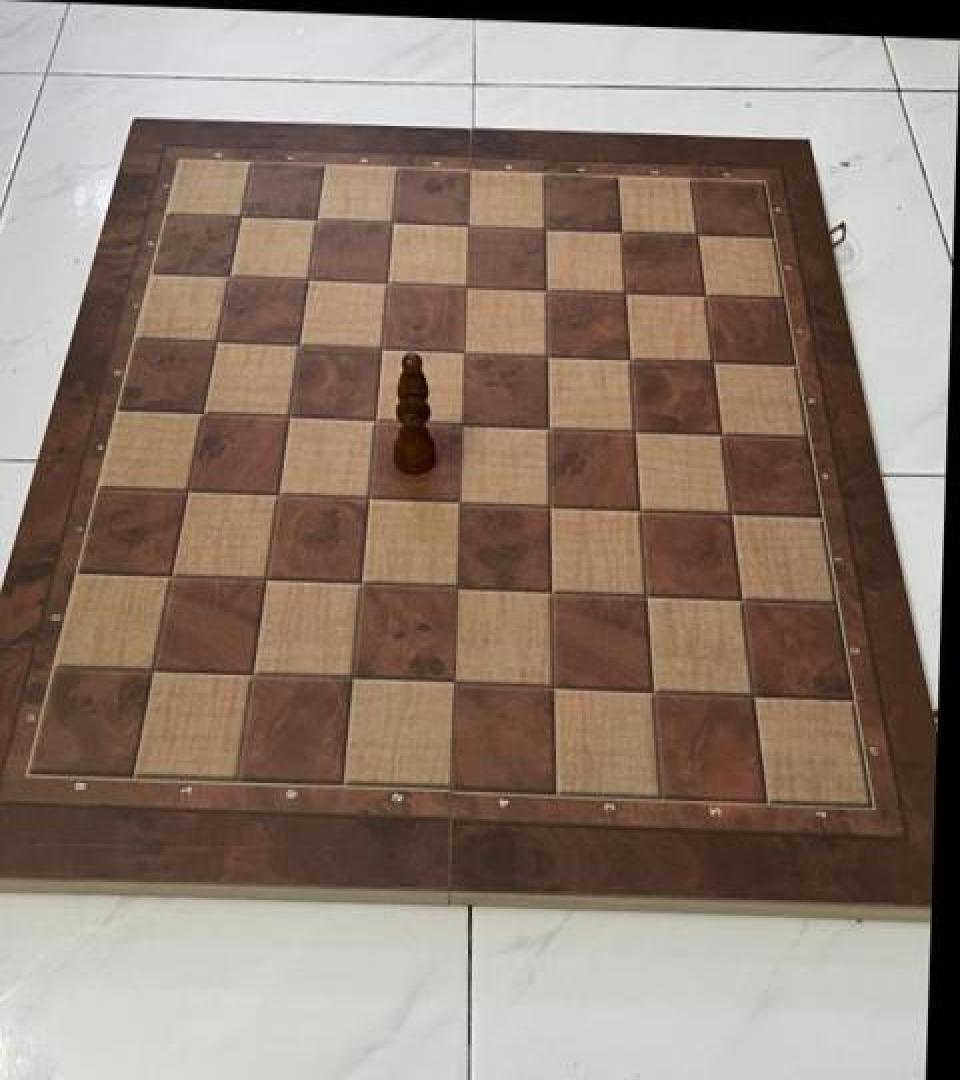xcorner: (222, 199, 258, 240), (297, 201, 333, 242), (523, 209, 559, 250), (367, 263, 403, 304), (603, 271, 639, 312), (279, 325, 315, 366), (525, 334, 561, 375), (355, 399, 391, 440), (527, 406, 563, 447), (169, 471, 205, 512), (348, 478, 384, 519), (619, 488, 655, 529), (246, 560, 282, 601), (435, 568, 471, 609), (721, 579, 757, 620), (133, 651, 169, 692), (332, 659, 368, 700), (532, 668, 568, 709), (734, 676, 770, 717), (372, 204, 408, 244), (447, 206, 483, 246), (599, 212, 635, 252), (675, 214, 711, 254), (210, 258, 246, 298), (289, 261, 325, 301), (445, 267, 481, 307), (524, 269, 560, 309), (682, 275, 718, 315), (198, 323, 234, 363), (361, 329, 397, 369), (443, 332, 479, 372), (608, 338, 644, 378), (691, 340, 727, 380), (184, 394, 220, 434), (269, 396, 305, 436), (441, 403, 477, 443), (613, 410, 649, 450), (700, 413, 736, 453), (258, 475, 294, 515), (438, 482, 474, 522), (528, 485, 564, 525), (710, 492, 746, 532), (152, 557, 188, 597), (340, 564, 376, 604), (530, 572, 566, 612), (626, 576, 662, 616), (232, 656, 268, 696), (432, 664, 468, 704), (633, 673, 669, 713)
